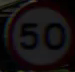Speed limit: (4, 3, 70, 64)
